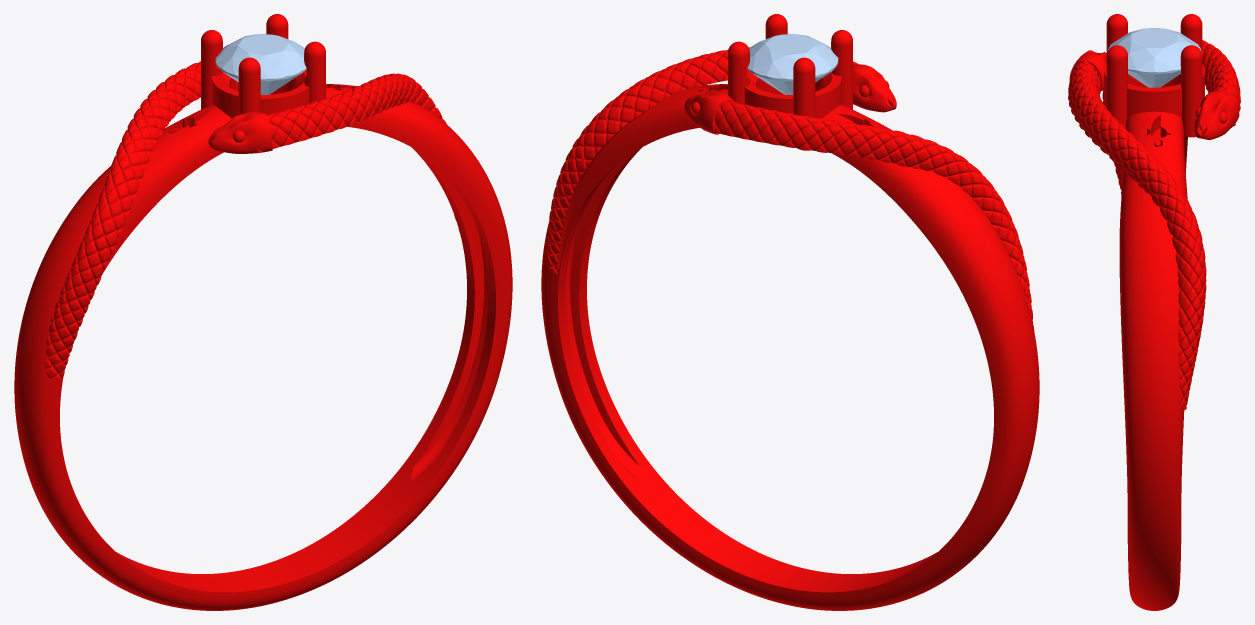
3 renders of one model, left to right at view 1: azimuth 30°, elevation 25°; view 2: azimuth 150°, elevation 25°; view 3: azimuth 270°, elevation 25°, orthographic.
Visible parts, largest first — view 1: Rhinoceros Binary STL ( May 22 2017 ), GG_Round; view 2: Rhinoceros Binary STL ( May 22 2017 ), GG_Round; view 3: Rhinoceros Binary STL ( May 22 2017 ), GG_Round.
Boxes of the visible parts, left/top/right/bottom form: Rhinoceros Binary STL ( May 22 2017 ): left=14, top=14, right=512, bottom=610; GG_Round: left=215, top=33, right=306, bottom=94; Rhinoceros Binary STL ( May 22 2017 ): left=541, top=14, right=1039, bottom=610; GG_Round: left=747, top=33, right=838, bottom=94; Rhinoceros Binary STL ( May 22 2017 ): left=1068, top=14, right=1240, bottom=610; GG_Round: left=1107, top=28, right=1201, bottom=87.
Size of the model in its own units: 2.62 by 2.91 by 0.8203.
